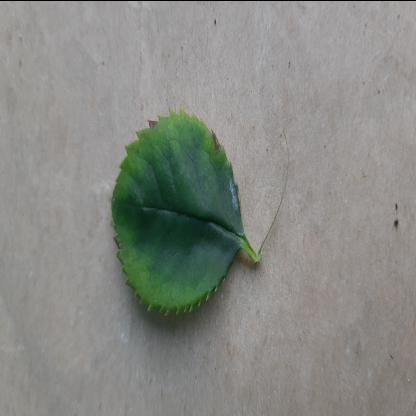normal: (110, 101, 245, 313)
